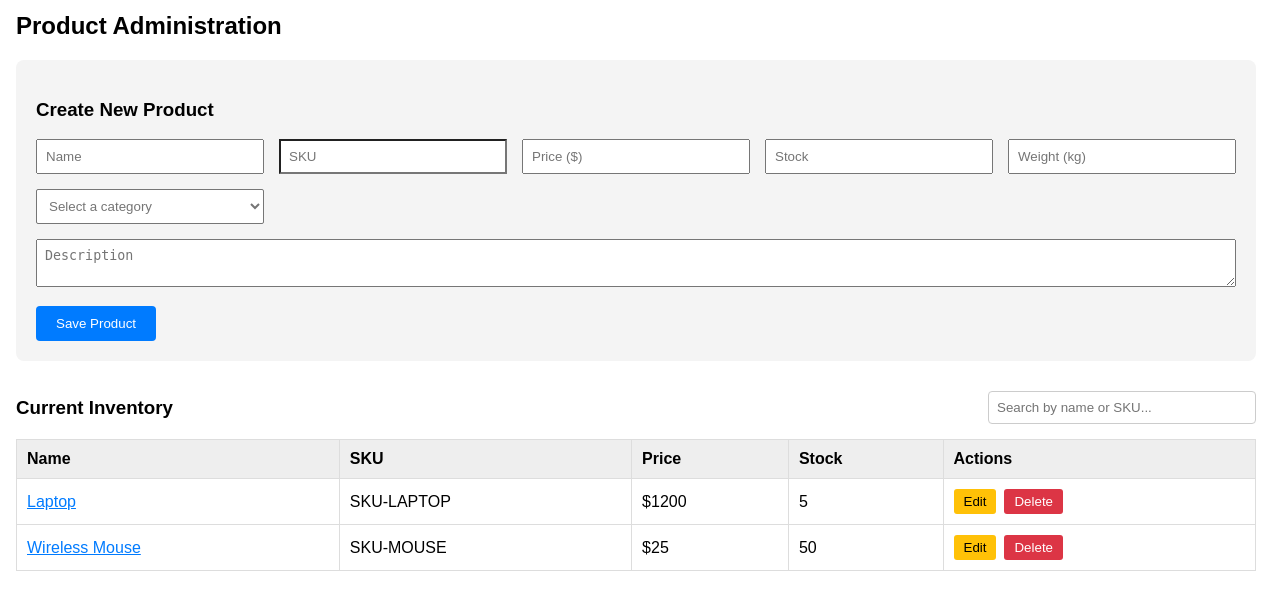
it: ProductAdmin Component › loads product data into form when clicking edit button and updates successfully
The width and height of the screenshot is (1273, 602).
Expected: the text "Laptop" is shown, left=27, top=493, right=76, bottom=510
Click the button "Edit" in the row of "SKU-LAPTOP" at (975, 502), box left=954, top=489, right=996, bottom=514
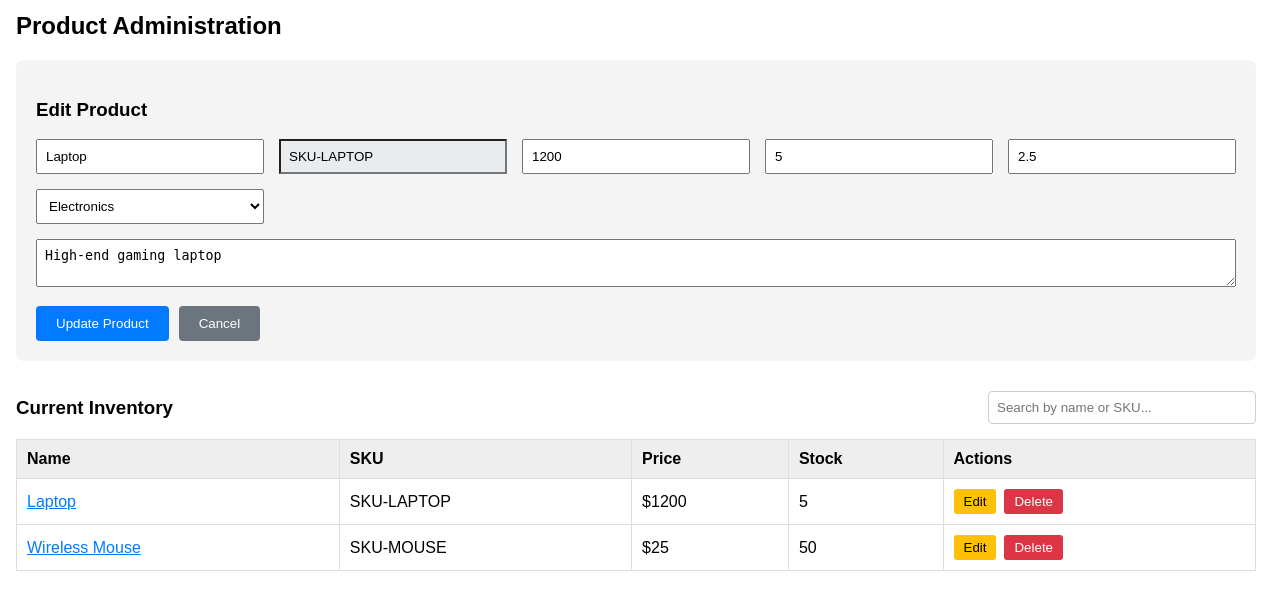
Expected: the heading "Edit Product" is shown, left=36, top=98, right=147, bottom=120
Expected: the button "Update Product" is shown, left=36, top=306, right=169, bottom=341
Expected: the button "Cancel" is shown, left=179, top=306, right=260, bottom=341
Replace the text in the field with placeholder "Name" with "Laptop Pro" at (150, 157), box left=36, top=139, right=264, bottom=174
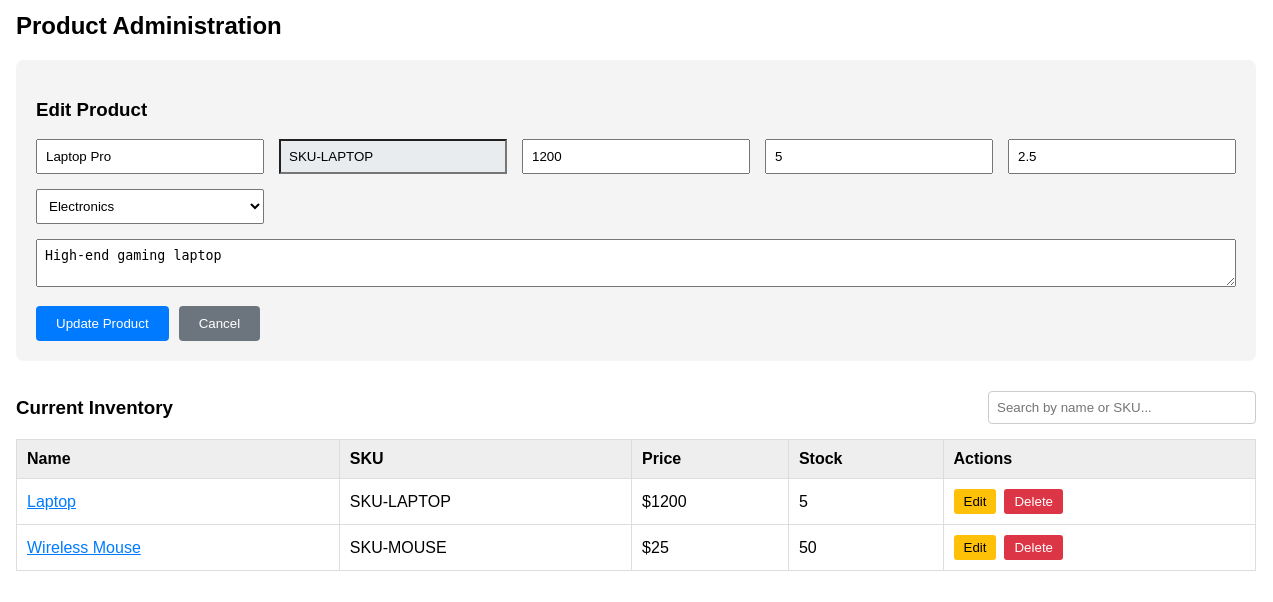
Replace the text in the 1st number field with placeholder "Price ($)" with "1500" at (636, 157), box left=522, top=139, right=750, bottom=174
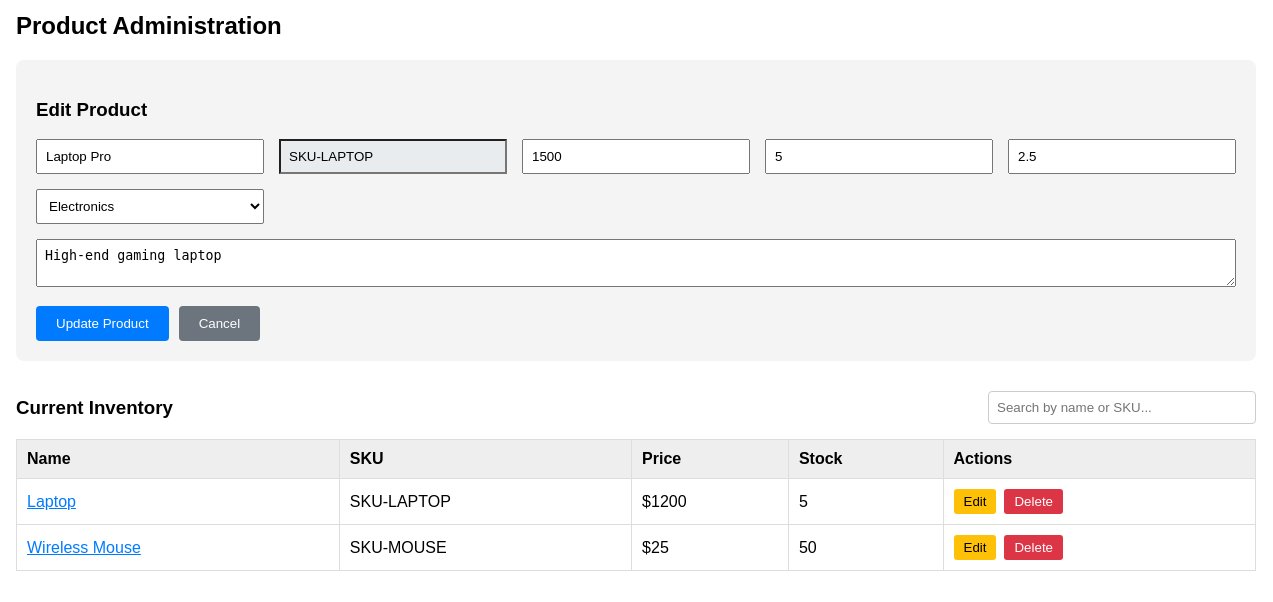
Click the button "Update Product" at (102, 324), box left=36, top=306, right=169, bottom=341
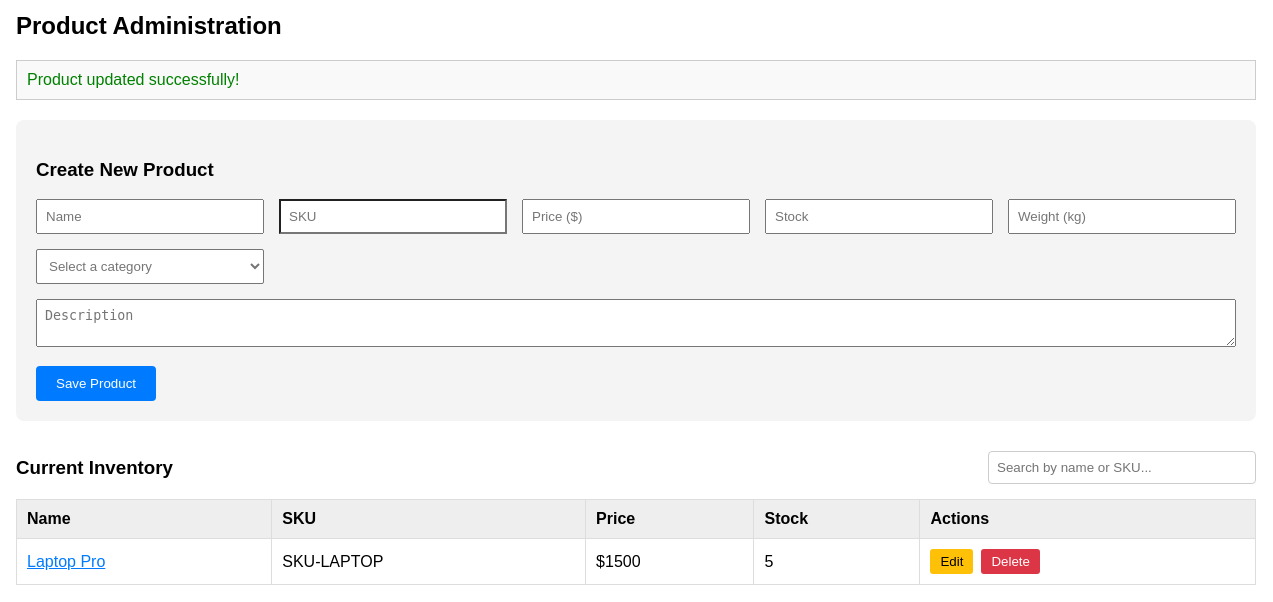
Expected: the text "Product updated successfully!" is shown, left=16, top=60, right=1256, bottom=100
Expected: the heading "Create New Product" is shown, left=36, top=158, right=214, bottom=180
